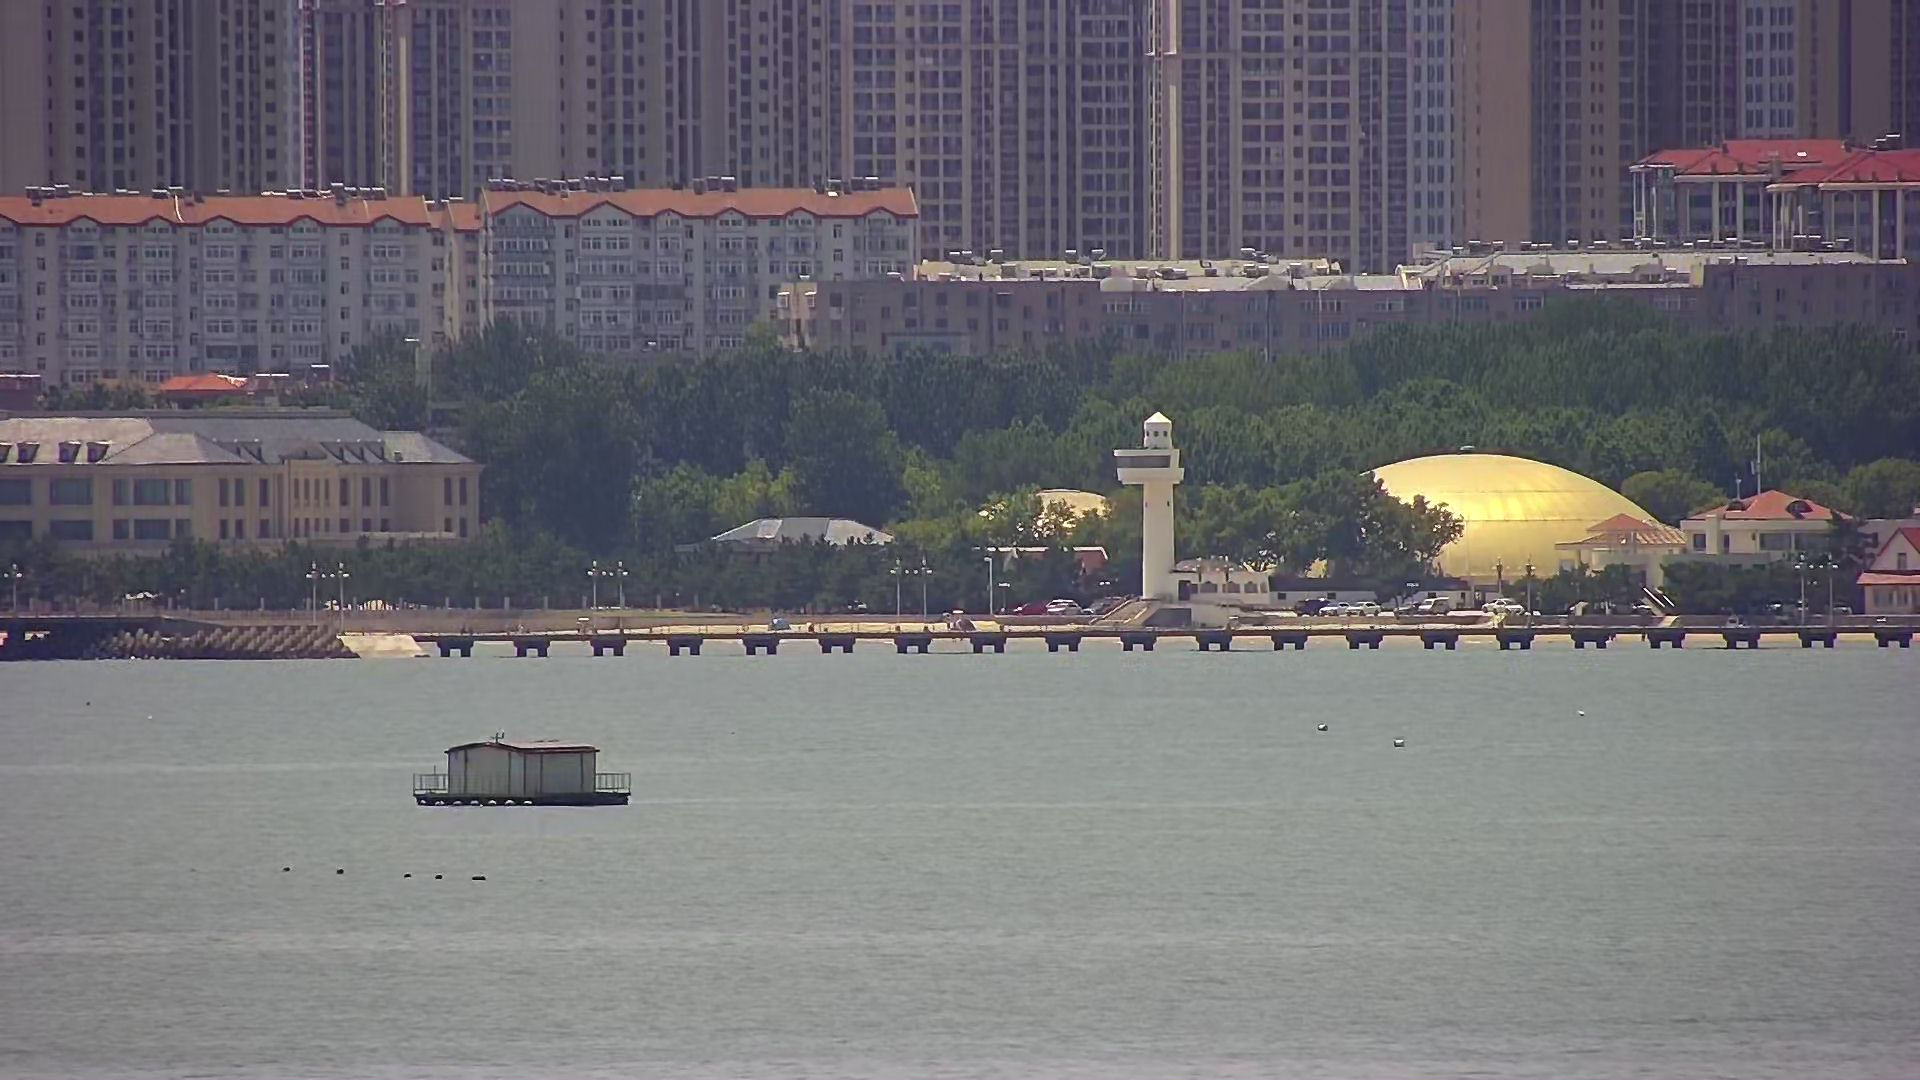bridge: (429, 626, 1920, 661)
platform: (414, 731, 637, 816)
